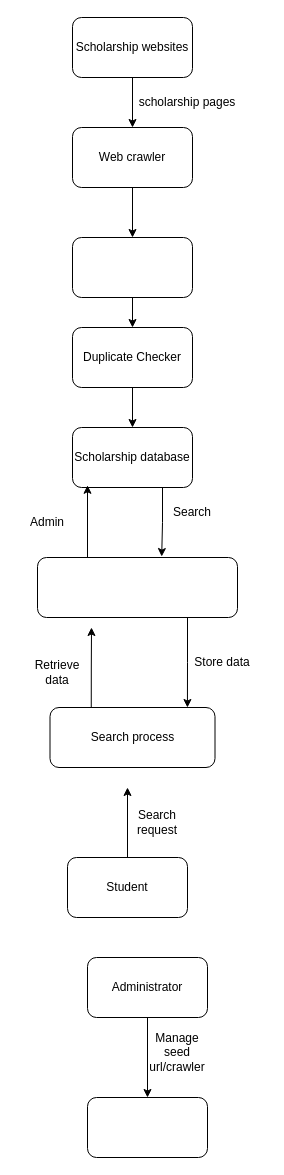
Some shapes in this 284 by 1175 pixel diagram are drawn without their labels. The centre of each missing label's shape, as x and y in pixels:
"Data Extraction" goes at pixel 132 267.
"Scholarship search system" goes at pixel 137 587.
"Webcrawler" goes at pixel 147 1127.
